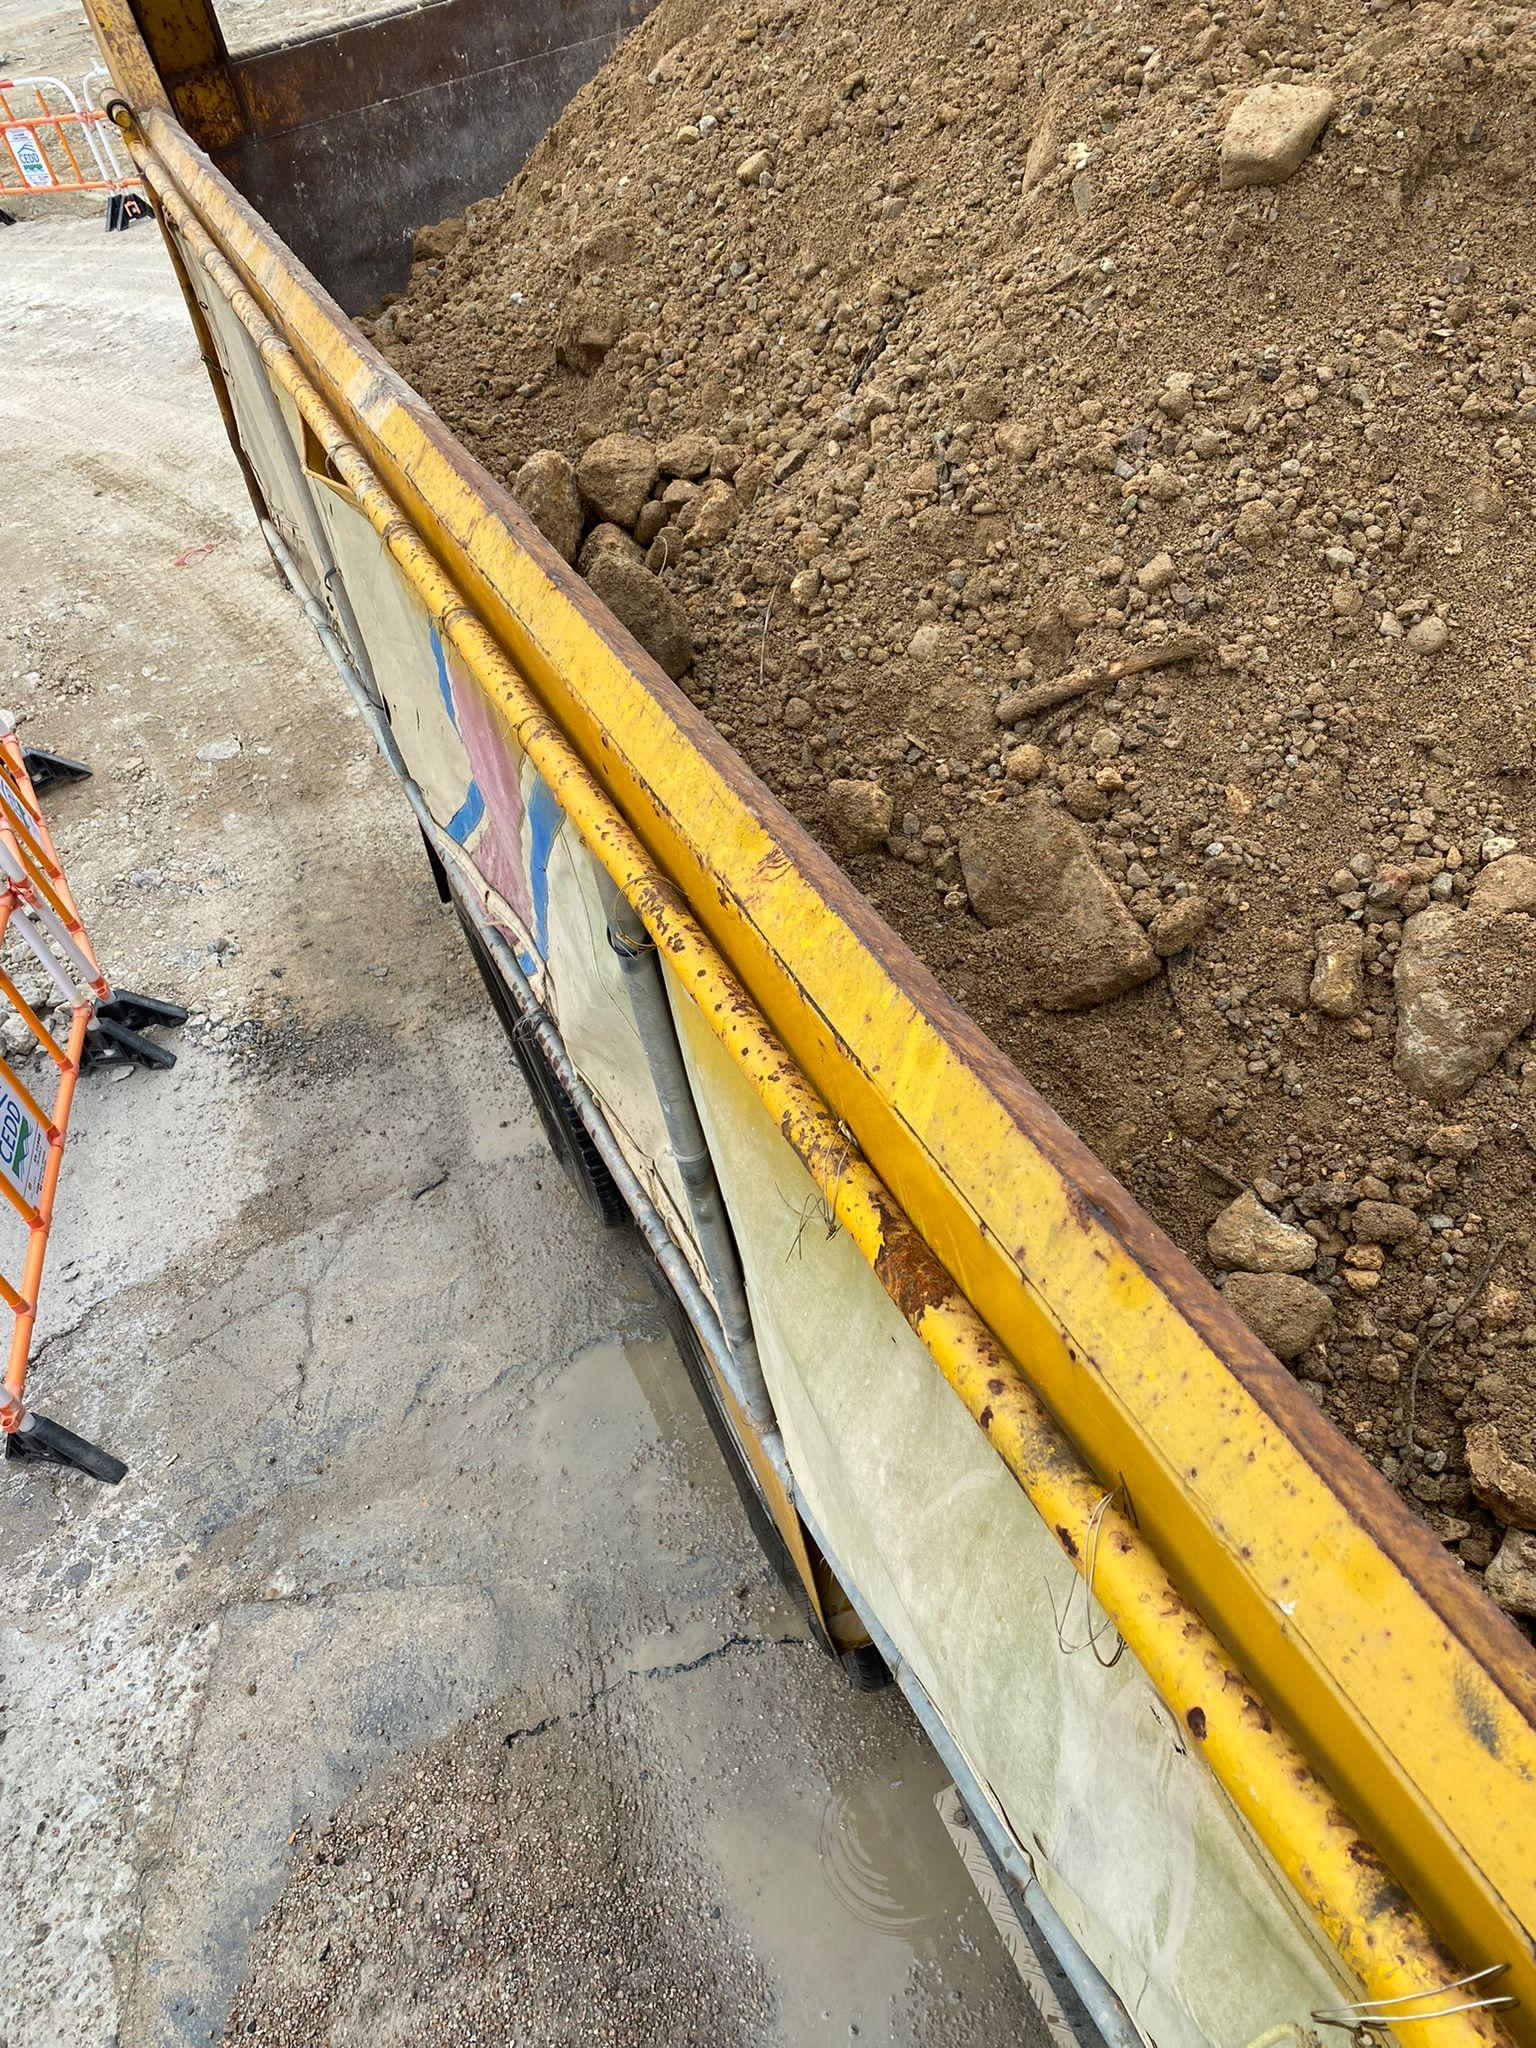stone: (954, 800, 1162, 1014), (1391, 901, 1534, 1100), (584, 548, 694, 679), (1217, 81, 1338, 189), (1217, 1271, 1334, 1361), (1205, 1188, 1317, 1272), (507, 447, 582, 561), (574, 431, 658, 527), (1307, 921, 1365, 1018), (824, 776, 892, 853)
